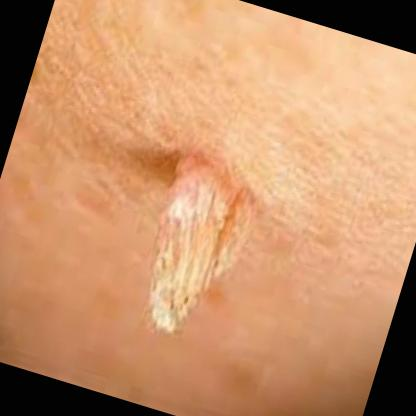Warts: (102, 130, 278, 372)
